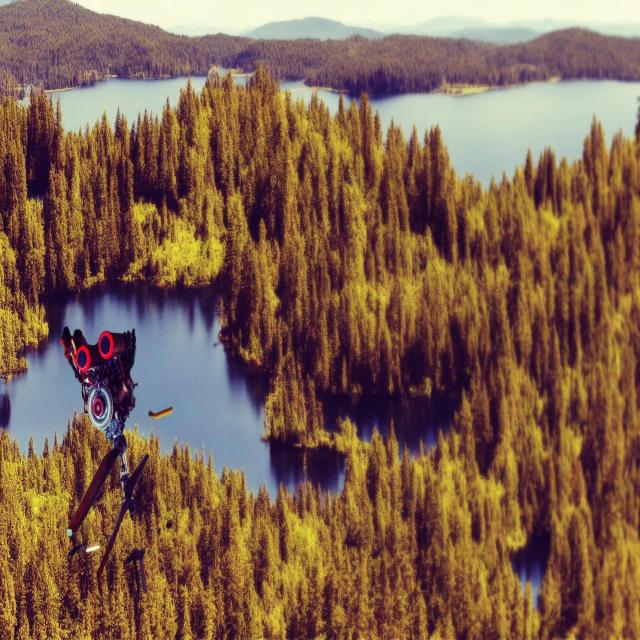airplane: (59, 324, 172, 592)
